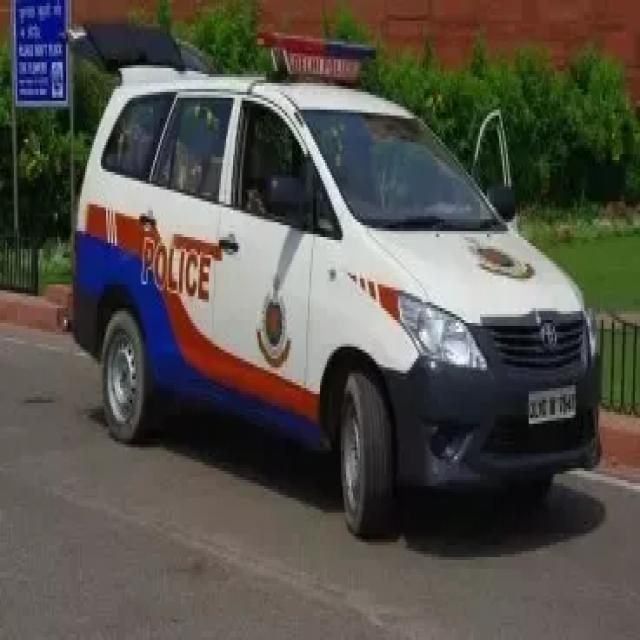Police: (57, 34, 618, 562)
